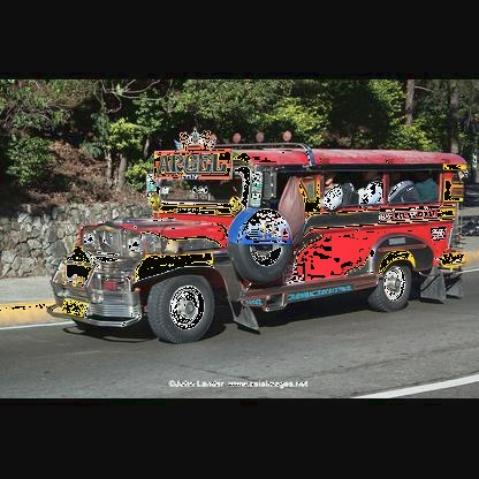jeepney: (54, 114, 462, 332)
